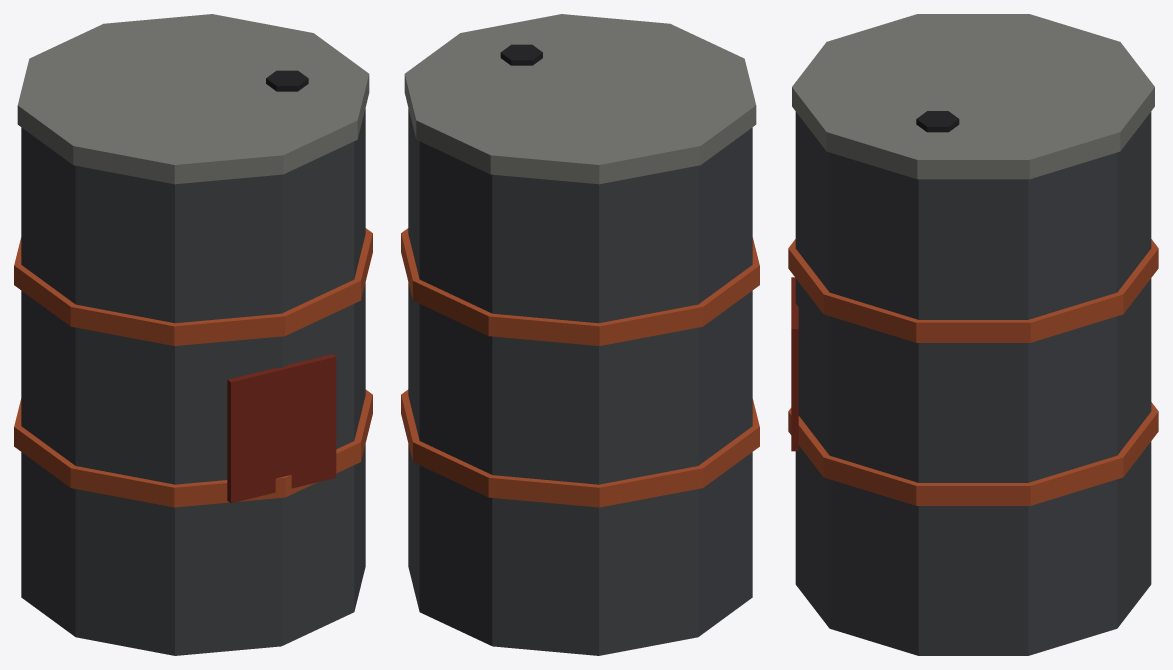
Rendered from scablands_drum.glb.
The picture shows the model from 3 angles, left to right: view 1: azimuth 30°, elevation 25°; view 2: azimuth 150°, elevation 25°; view 3: azimuth 270°, elevation 25°; orthographic projection.
Visible parts, largest first — view 1: scablands_drum; view 2: scablands_drum; view 3: scablands_drum.
Part boxes in pixels (x1,y1,x2,y2): scablands_drum: [14, 14, 372, 655]; scablands_drum: [401, 14, 759, 655]; scablands_drum: [788, 14, 1158, 655].
Size of the model in its own units: 0.5744 by 0.905 by 0.604.
